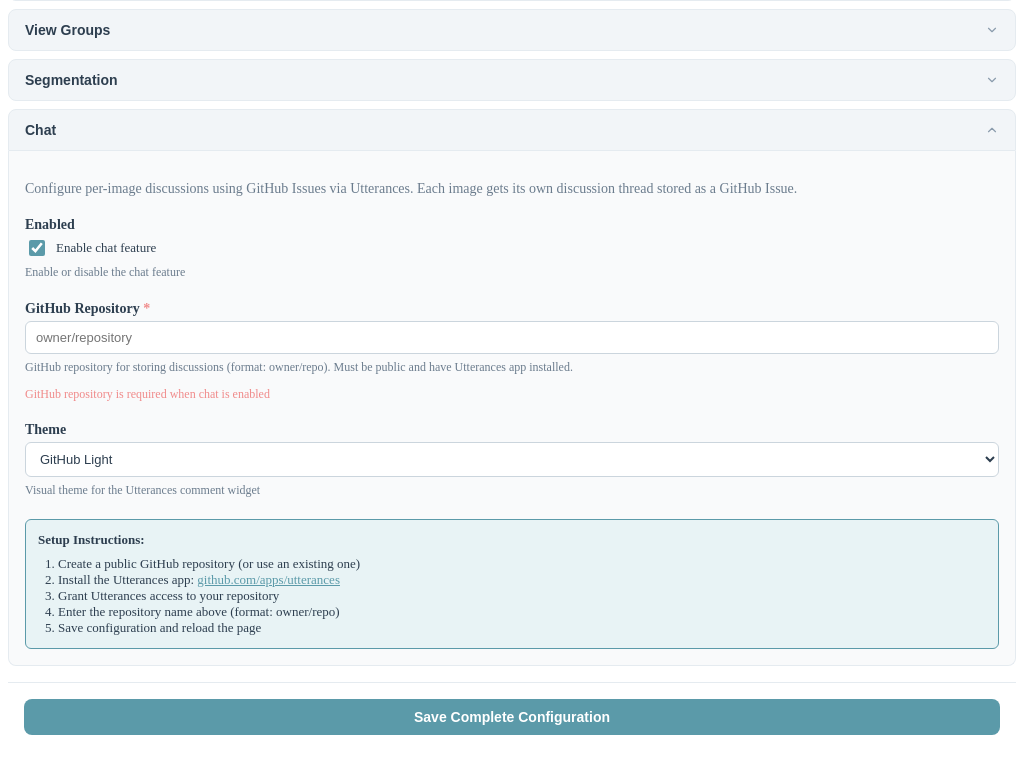
Test: ProjectConfigTab › Button states › disables save button while saving
(page scrolled)
Click the button "Save Complete Configuration".
click(512, 717)  # box [24,699,1000,735]
(page scrolled)
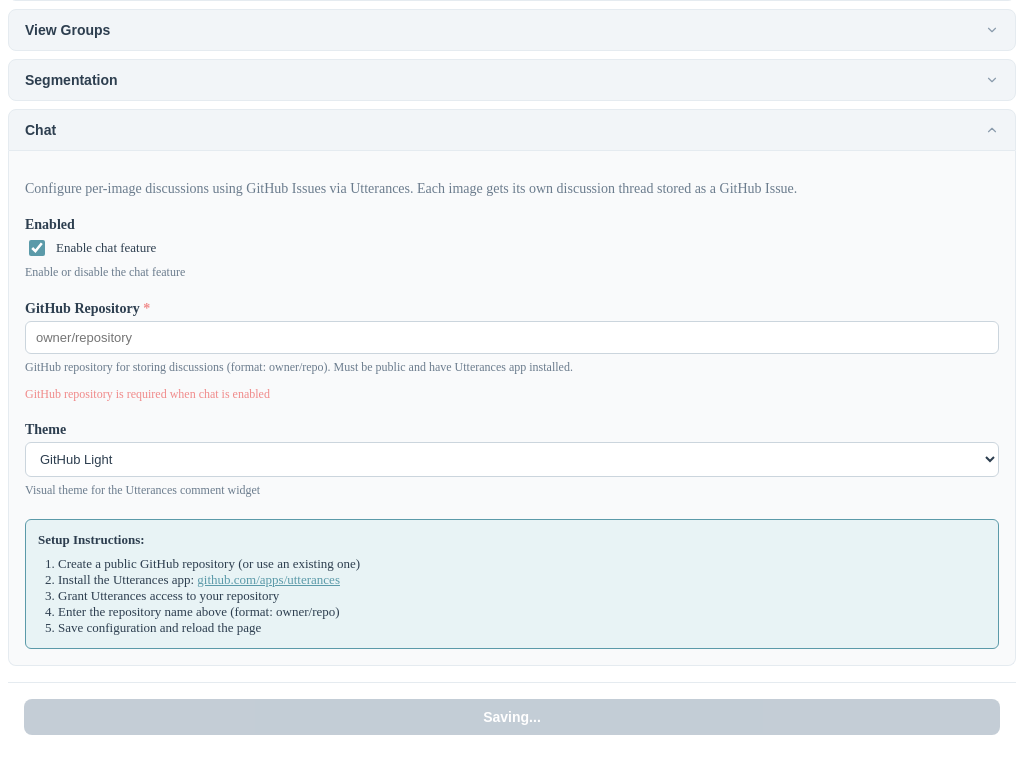
Now the button "Saving..." is disabled, box [24,699,1000,735]
